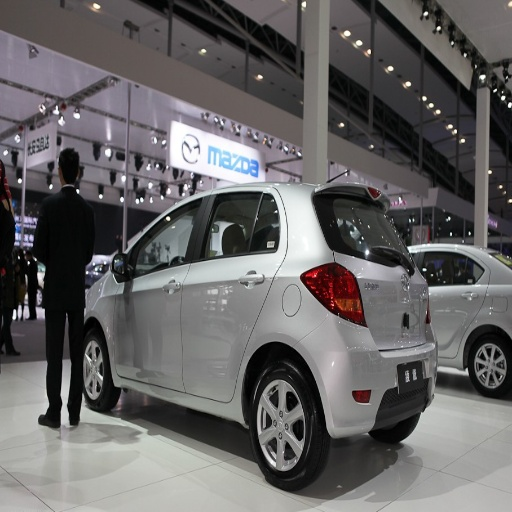back_bumper: (298, 312, 438, 438)
back_glass: (313, 191, 401, 263)
back_left_door: (183, 187, 281, 401)
tailgate: (350, 268, 415, 344)
trunk: (360, 262, 428, 350)
